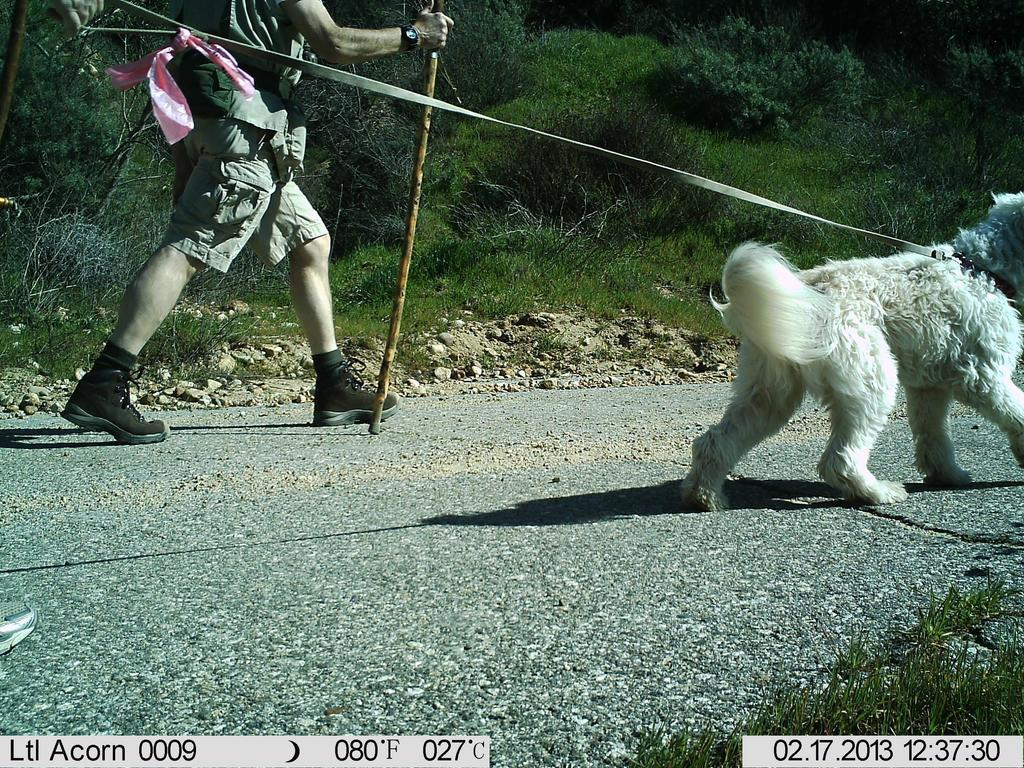dog: (679, 181, 1023, 510)
